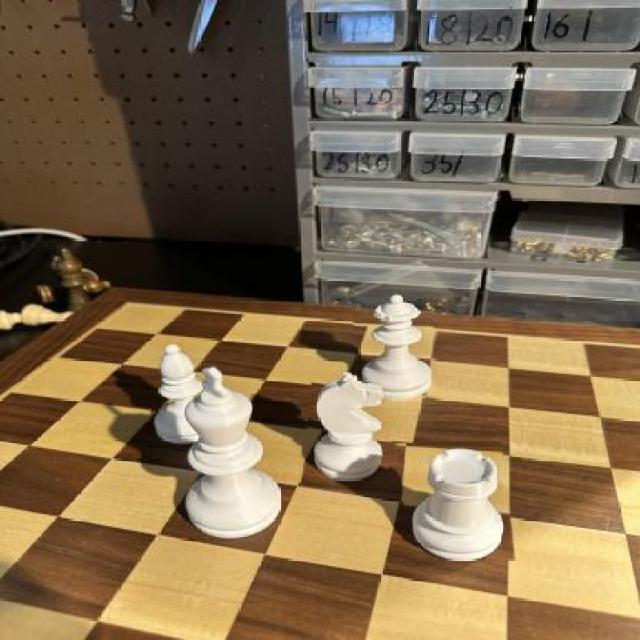black-rook: (146, 341, 226, 447)
white-bishop: (174, 364, 286, 542)
white-king: (304, 374, 396, 487)
white-pawn: (354, 292, 438, 400)
white-queen: (400, 438, 512, 566)
